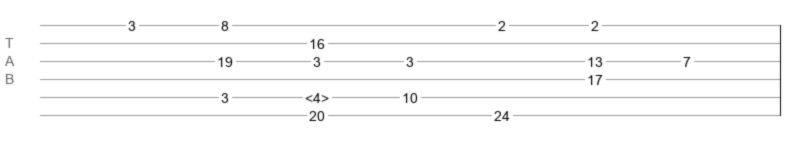10: (402, 90, 418, 100)
13: (587, 54, 603, 64)
16: (309, 36, 325, 46)
17: (587, 72, 603, 82)
19: (217, 54, 233, 64)
2: (498, 18, 506, 28), (591, 18, 599, 28)
20: (309, 108, 325, 118)
24: (494, 108, 510, 118)
3: (128, 18, 136, 28), (221, 90, 229, 100), (313, 54, 321, 64), (406, 54, 414, 64)
7: (683, 54, 691, 64)
8: (221, 18, 229, 28)
harmonic: (305, 90, 329, 100)
